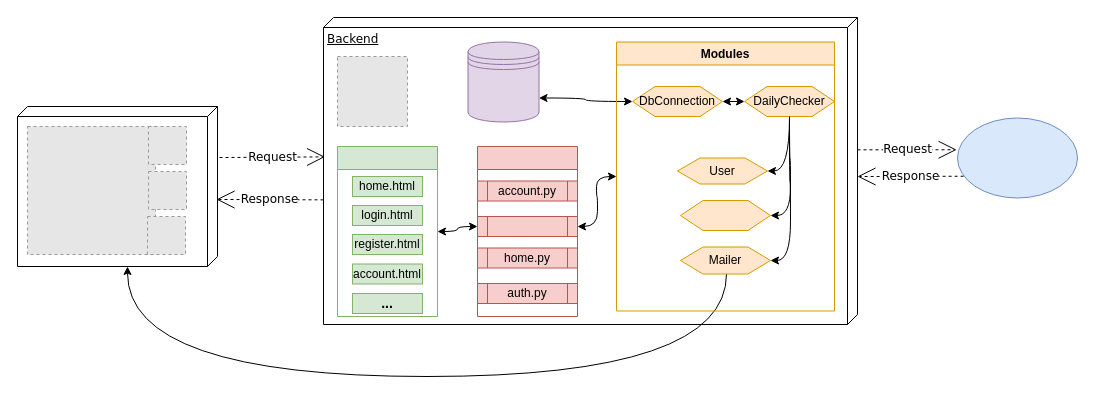
This 1095x394 diagram has some shape labels left out. Grey dashed boxes stand in for pictures. The box of each missing label's shape, as (x1, y1, x2, y2) in pixels:
AlphaVantage API: (956, 117, 1078, 198)
Client/User: (16, 106, 218, 266)
info.py: (476, 216, 578, 236)
Routes: (476, 146, 578, 316)
sqlite3: (467, 41, 539, 122)
Strategy: (680, 200, 770, 230)
Templates: (336, 146, 438, 316)
